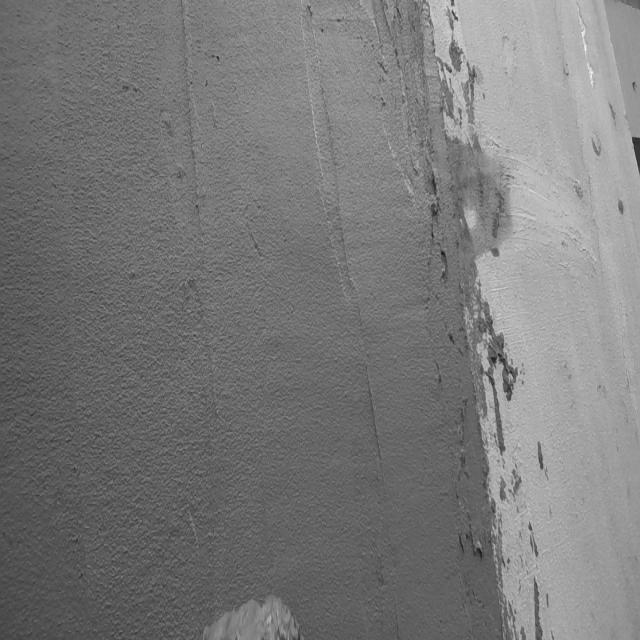trowels marks: (326, 144, 385, 480), (177, 13, 209, 257)
